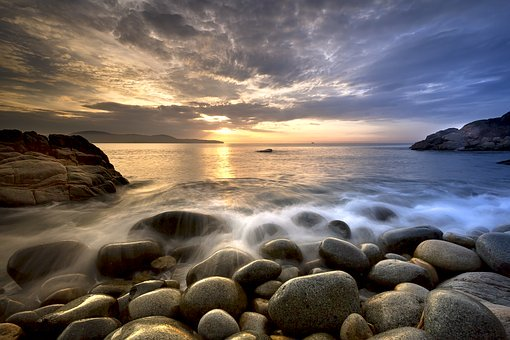sea: (44, 146, 507, 306)
sky: (2, 1, 498, 138)
stone: (190, 248, 509, 340)
